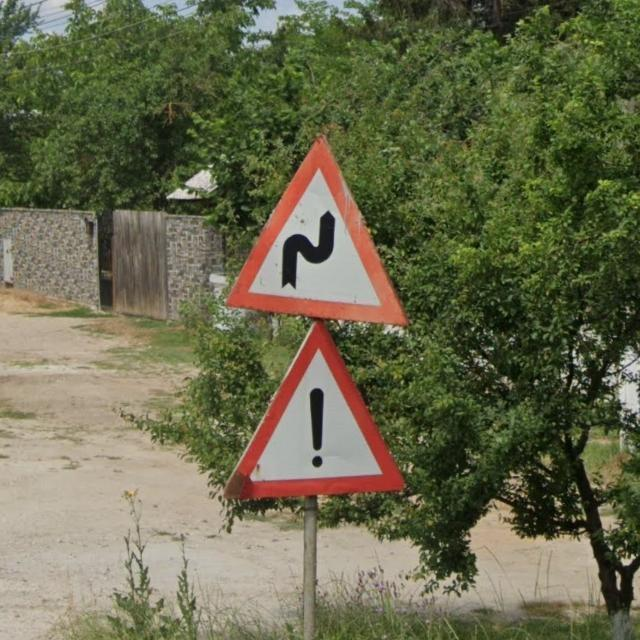warn_double_curve: (225, 133, 411, 328)
